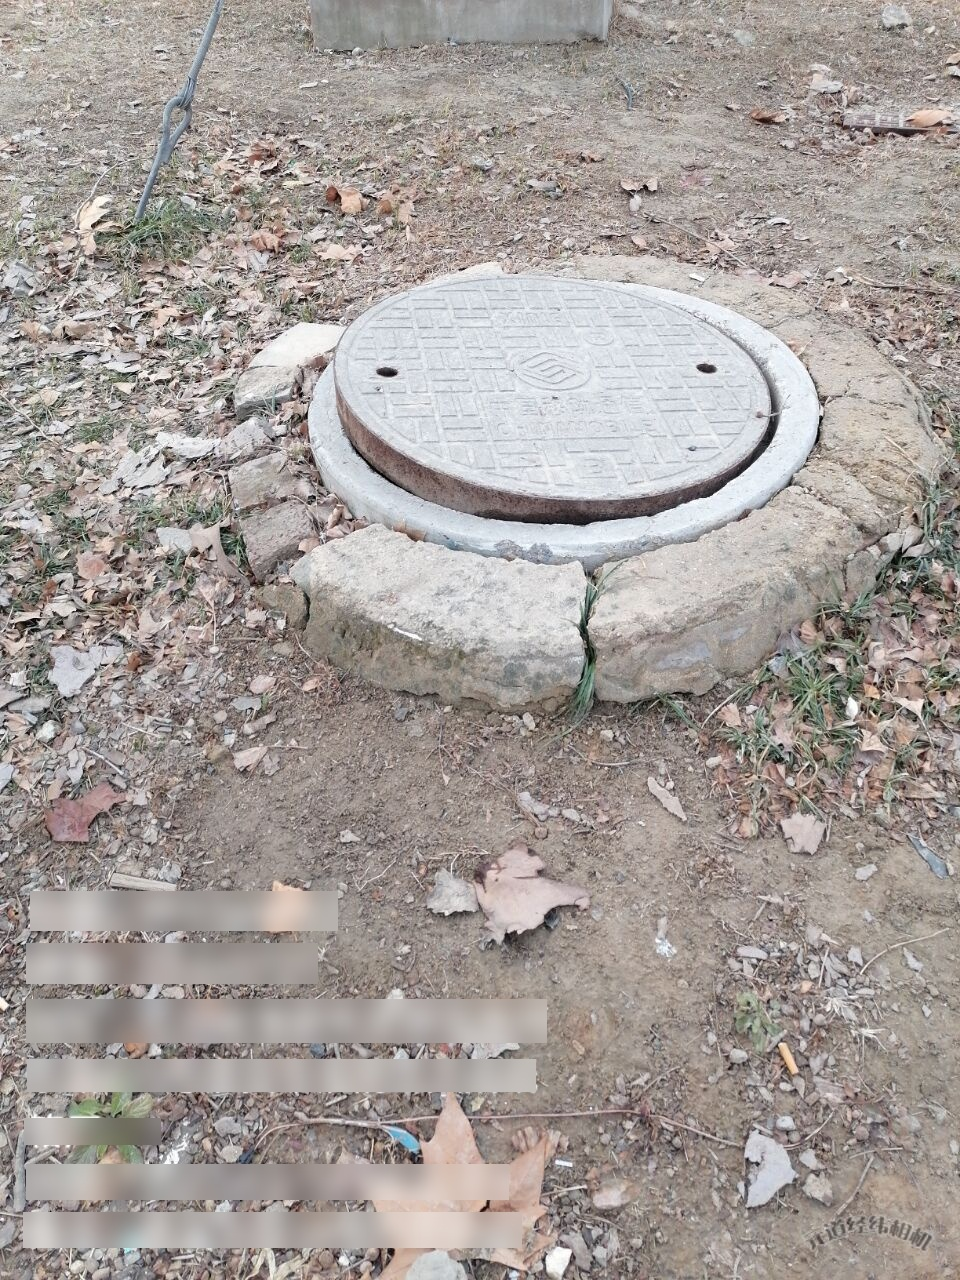uncovered: (308, 273, 818, 557)
